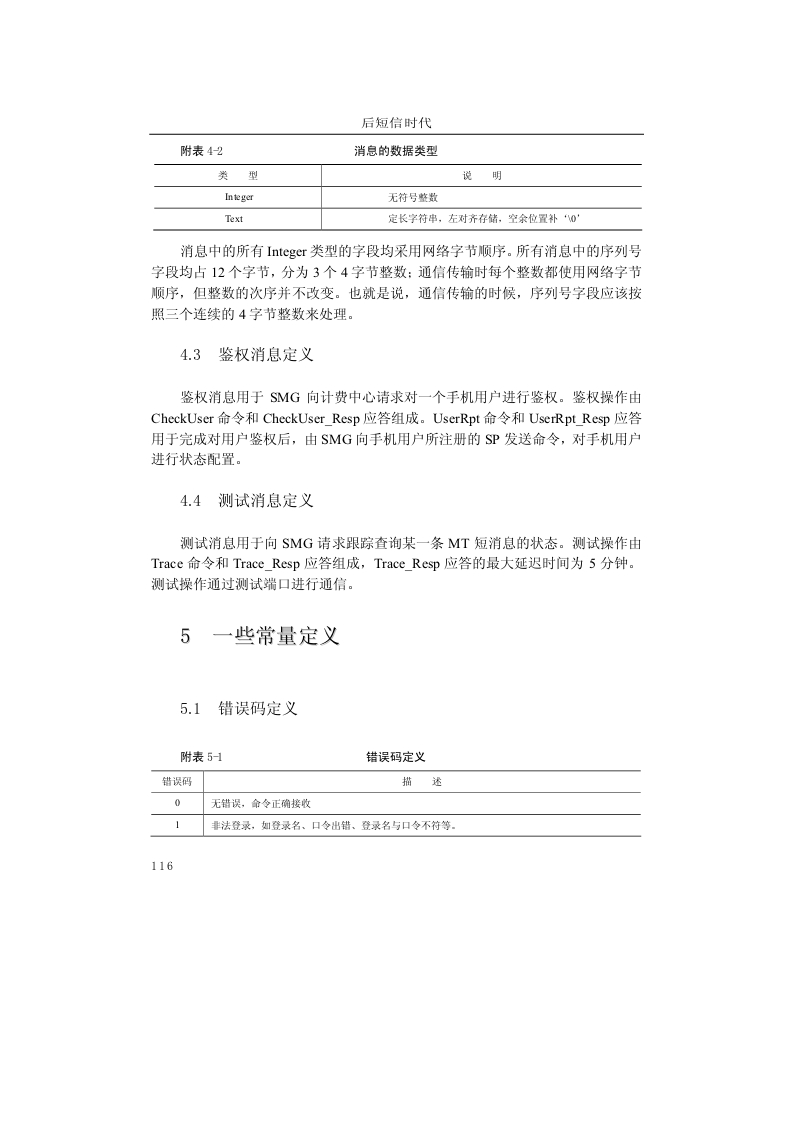table: (149, 133, 642, 232), (150, 770, 641, 836)
